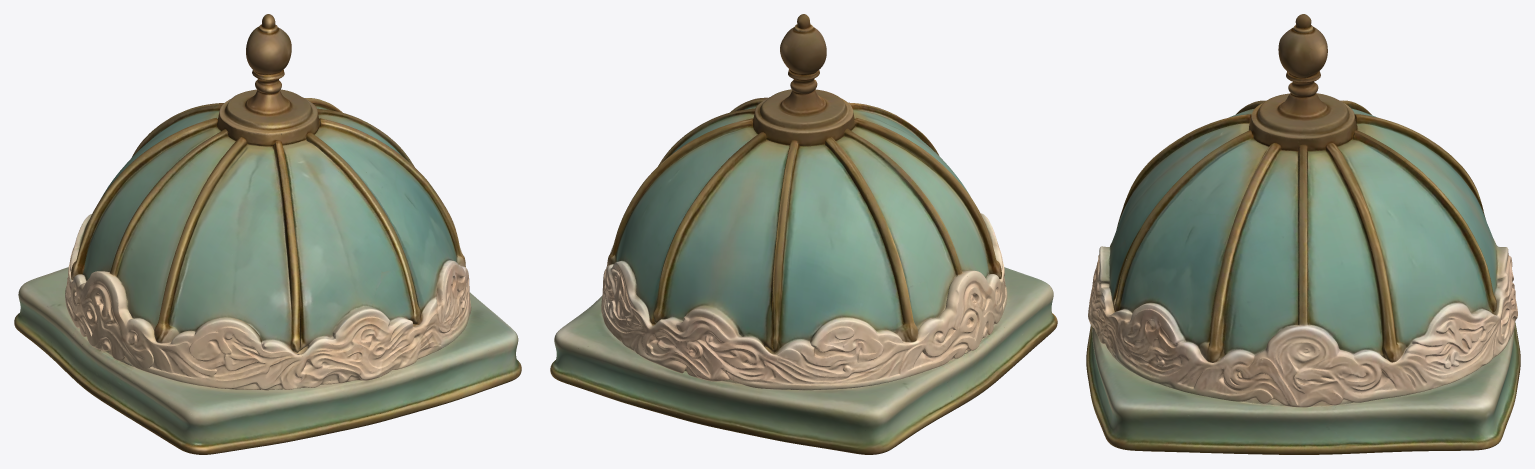
File: act1_dome.glb
The picture shows the model from 3 angles, left to right: view 1: azimuth 30°, elevation 25°; view 2: azimuth 150°, elevation 25°; view 3: azimuth 270°, elevation 25°; orthographic projection. The views are drawn at different scales.
Visible parts, largest first — view 1: model; view 2: model; view 3: model.
Boxes of the visible parts, x1,y1,x2,y2 form: model: (14, 14, 521, 454); model: (550, 14, 1057, 454); model: (1086, 14, 1520, 454).
Size of the model in its own units: 1.11 by 1 by 1.12.
1 material, 1 textured.
